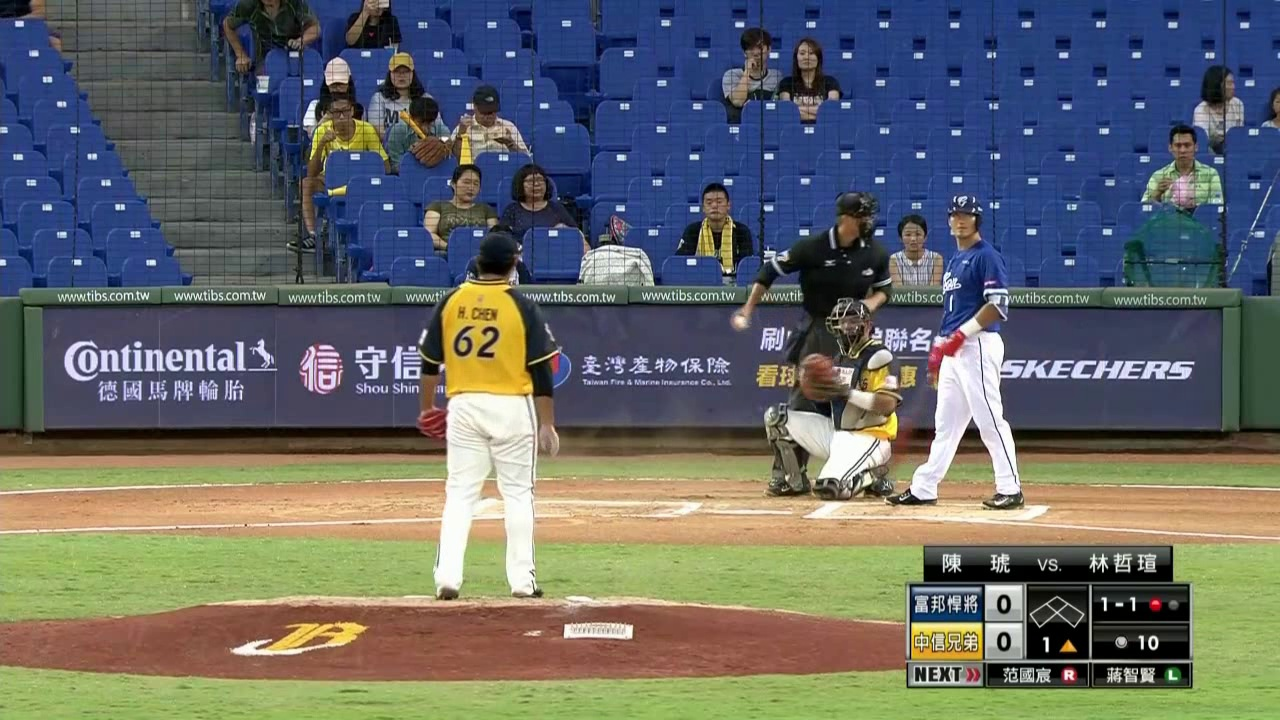ball: (737, 318, 746, 328)
base: (1029, 594, 1086, 630)
bat: (887, 362, 937, 471)
out: (1146, 593, 1184, 615)
score1: (991, 591, 1019, 620)
score2: (992, 628, 1020, 654)
session: (1033, 632, 1088, 658)
strikeball: (1093, 591, 1140, 623)
total: (1105, 628, 1163, 660)
